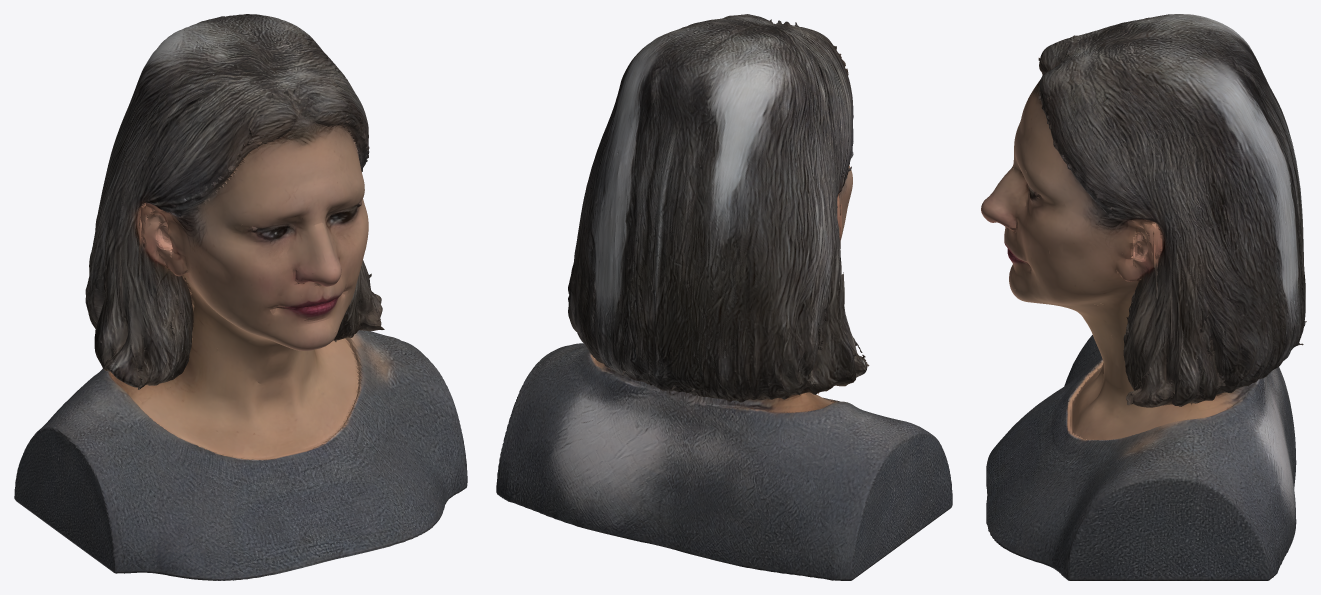
The model's file is rodin_v2_5_minimum_50k_quad_texture_high_pbr.glb.
3 views of the same model, side by side, from view 1: azimuth 30°, elevation 25°; view 2: azimuth 150°, elevation 25°; view 3: azimuth 270°, elevation 25° (orthographic).
Visible parts, largest first — view 1: model; view 2: model; view 3: model.
Part boxes in pixels (<box>): model: <box>14,14,467,580</box>; model: <box>496,14,952,580</box>; model: <box>981,14,1306,580</box>.
Bounding box in the file's own units: 1.53 × 1.91 × 1.22.
Materials: 1 (1 with a texture image).
